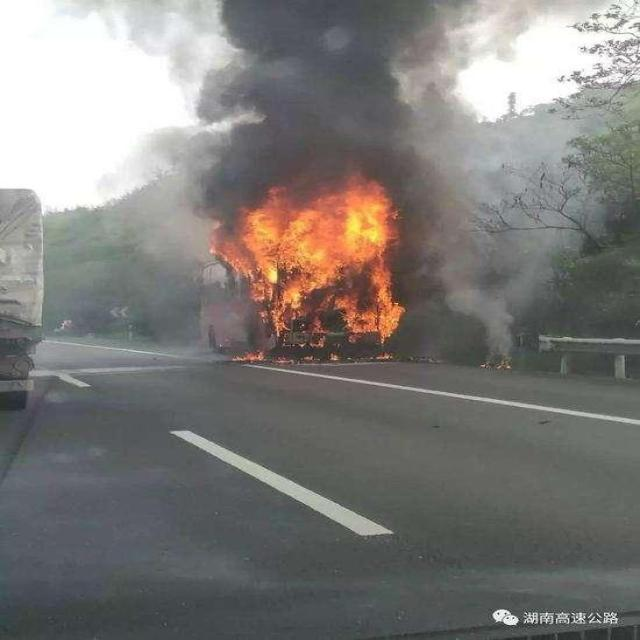Fire: (208, 178, 408, 362)
Smoke: (50, 2, 640, 185), (408, 190, 618, 370), (46, 193, 225, 357)
